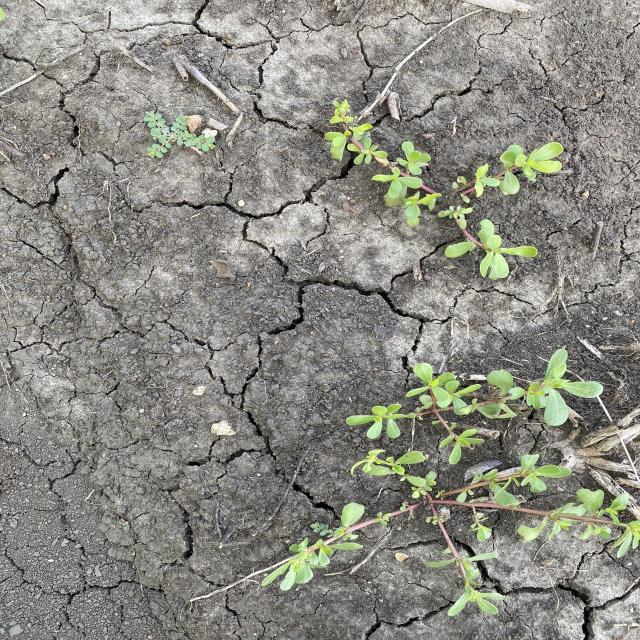Purslane: (260, 348, 638, 618), (321, 96, 568, 282)
SpottedSpurge: (138, 109, 221, 162)
